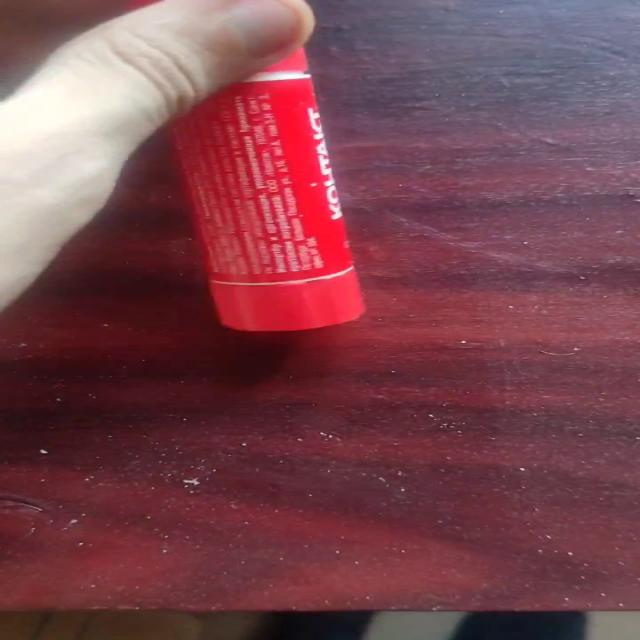glue: (165, 43, 367, 332)
